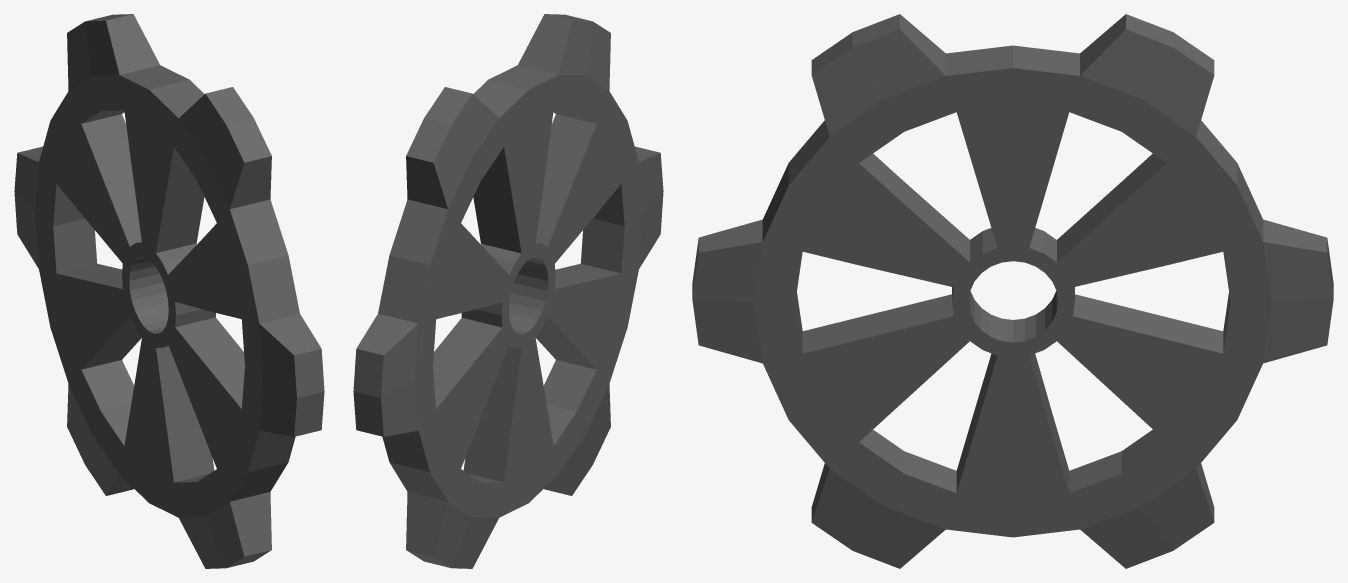
Rendered from Gear2.fbx.
The picture shows the model from 3 angles, left to right: view 1: azimuth 30°, elevation 25°; view 2: azimuth 150°, elevation 25°; view 3: azimuth 270°, elevation 25°; orthographic projection. The views are drawn at different scales.
Visible parts, largest first — view 1: INSANO 2.001; view 2: INSANO 2.001; view 3: INSANO 2.001.
Boxes of the visible parts, x1,y1,x2,y2 form: INSANO 2.001: (14,14,324,568); INSANO 2.001: (353,14,663,568); INSANO 2.001: (692,14,1333,568).
Bounding box in the file's own units: 13.27 × 148 × 160.
1 material, 1 textured.
